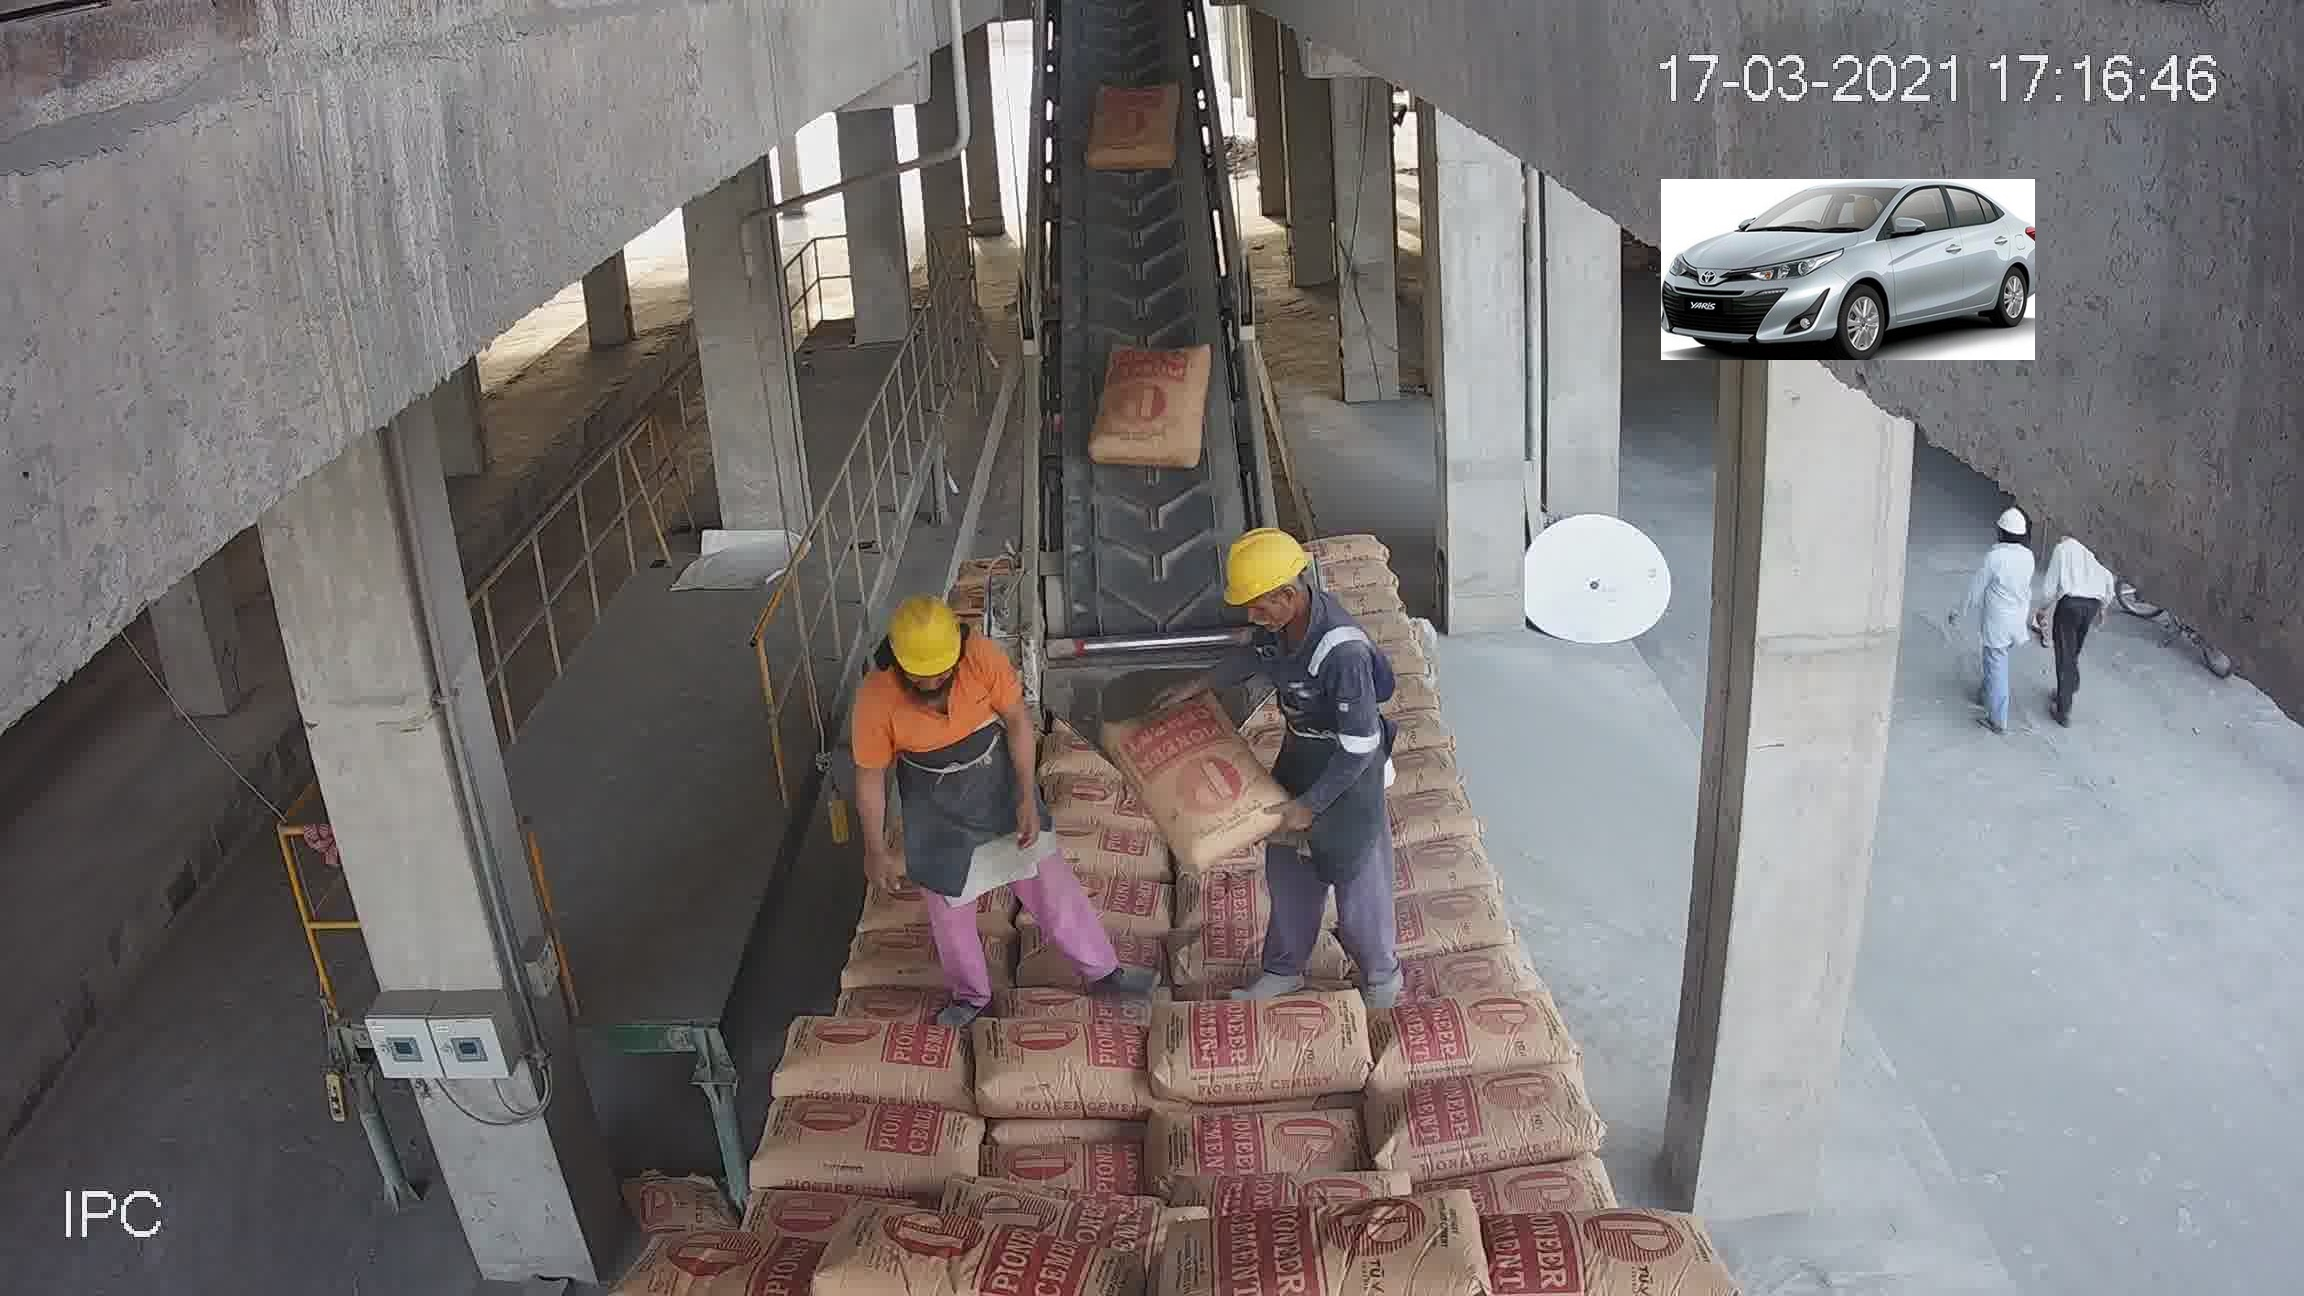bag: (1109, 692, 1268, 870), (1086, 334, 1214, 470), (1095, 74, 1187, 171)
bag_h: (1193, 1188, 1502, 1294), (1435, 1198, 1715, 1296), (786, 1215, 1127, 1294), (1165, 986, 1369, 1106), (748, 1100, 994, 1196), (972, 1006, 1157, 1128), (1351, 999, 1579, 1097), (1378, 1082, 1579, 1190), (1161, 1111, 1366, 1196), (777, 1022, 973, 1101), (635, 1225, 853, 1294), (1367, 937, 1537, 1016), (1383, 870, 1505, 965), (813, 972, 976, 1040), (994, 1143, 1160, 1199), (1396, 831, 1495, 891), (1298, 524, 1393, 570), (1304, 554, 1407, 589)
belt: (1017, 24, 1271, 682)
